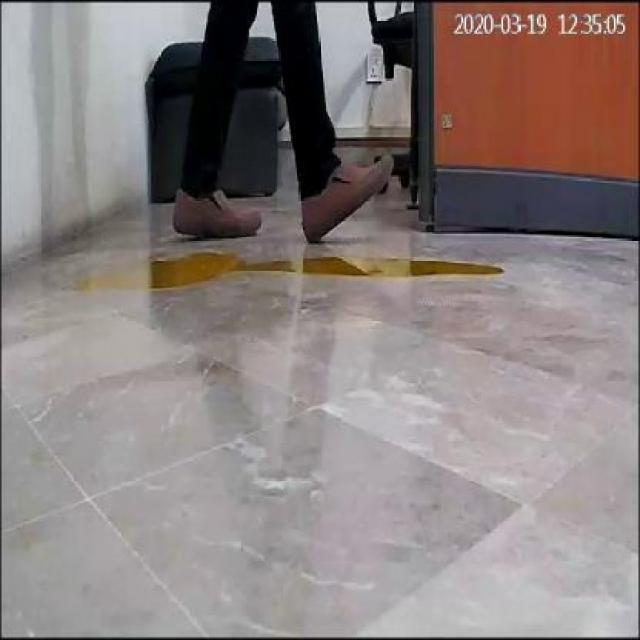spill: (77, 250, 506, 288)
